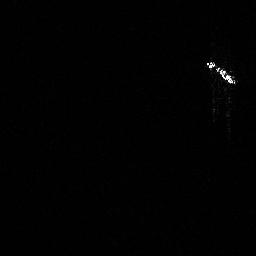ship: (203, 55, 240, 89)
